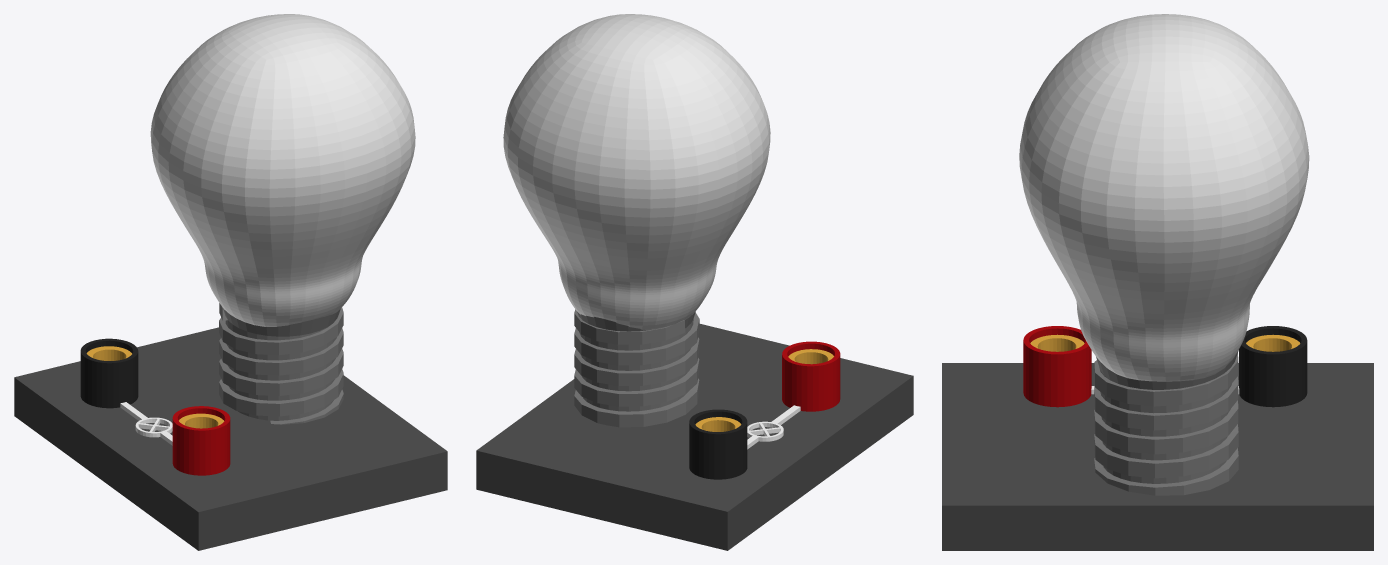
File: Лампочка.fbx
3 views of the same model, side by side, from view 1: azimuth 30°, elevation 25°; view 2: azimuth 150°, elevation 25°; view 3: azimuth 270°, elevation 25° (orthographic). The views are drawn at different scales.
Visible parts, largest first — view 1: Куб.002, Куб, Куб.001, Цилиндр, Цилиндр.006, Цилиндр.001, Куб.003, Цилиндр.002, Цилиндр.004; view 2: Куб.002, Куб, Куб.001, Цилиндр.001, Цилиндр.006, Цилиндр, Куб.003, Цилиндр.002, Цилиндр.004; view 3: Куб.002, Куб, Куб.001, Цилиндр.001, Цилиндр.006, Цилиндр, Цилиндр.004, Цилиндр.002.
Part boxes in pixels (x1=…): Куб.002: x1=150, y1=14, x2=415, y2=326; Куб: x1=14, y1=327, x2=447, y2=550; Куб.001: x1=219, y1=303, x2=343, y2=424; Цилиндр: x1=223, y1=308, x2=340, y2=420; Цилиндр.006: x1=172, y1=406, x2=230, y2=475; Цилиндр.001: x1=80, y1=338, x2=138, y2=408; Куб.003: x1=120, y1=402, x2=172, y2=445; Цилиндр.002: x1=179, y1=413, x2=224, y2=428; Цилиндр.004: x1=86, y1=346, x2=131, y2=360; Куб.002: x1=503, y1=14, x2=770, y2=329; Куб: x1=476, y1=324, x2=913, y2=550; Куб.001: x1=574, y1=309, x2=699, y2=427; Цилиндр.001: x1=689, y1=409, x2=747, y2=479; Цилиндр.006: x1=782, y1=341, x2=840, y2=411; Цилиндр: x1=577, y1=311, x2=695, y2=411; Куб.003: x1=747, y1=405, x2=800, y2=449; Цилиндр.002: x1=788, y1=349, x2=833, y2=364; Цилиндр.004: x1=695, y1=417, x2=741, y2=431; Куб.002: x1=1019, y1=14, x2=1309, y2=381; Куб: x1=942, y1=363, x2=1373, y2=550; Куб.001: x1=1094, y1=353, x2=1238, y2=495; Цилиндр.001: x1=1239, y1=326, x2=1307, y2=407; Цилиндр.006: x1=1023, y1=326, x2=1091, y2=407; Цилиндр: x1=1096, y1=350, x2=1238, y2=483; Цилиндр.004: x1=1246, y1=334, x2=1300, y2=351; Цилиндр.002: x1=1030, y1=334, x2=1084, y2=351.
Size of what is drawn, in the model's own units: 312 by 417 by 339.
